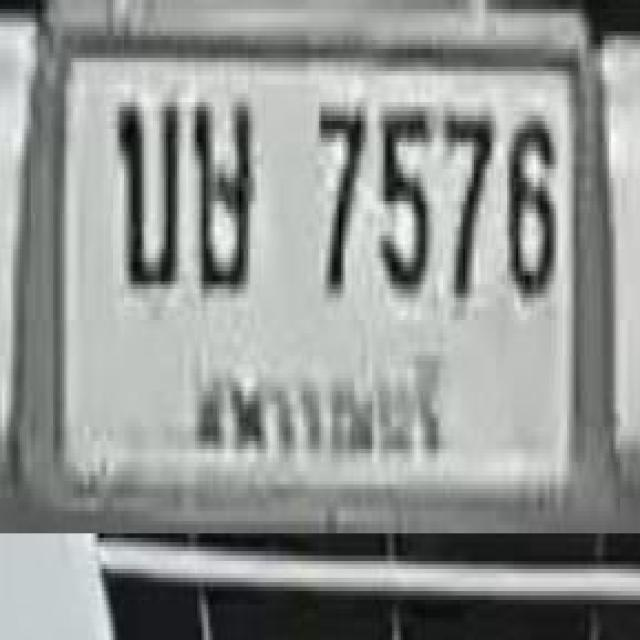license_plate: (26, 0, 612, 519)
